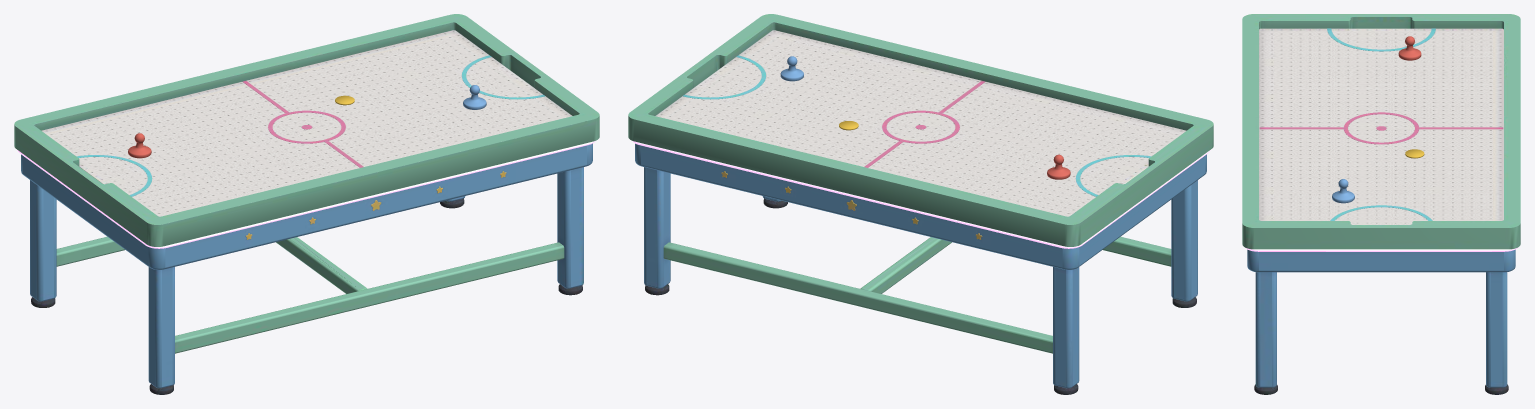
File: hockey_aire.glb
3 renders of one model, left to right at view 1: azimuth 30°, elevation 25°; view 2: azimuth 150°, elevation 25°; view 3: azimuth 270°, elevation 25°, orthographic. The views are drawn at different scales.
Parts seen in each view (by area): view 1: air-hockey-table_body; view 2: air-hockey-table_body; view 3: air-hockey-table_body.
Part boxes in pixels (x1,y1,x2,y2): air-hockey-table_body: (14, 14, 599, 394); air-hockey-table_body: (628, 14, 1213, 394); air-hockey-table_body: (1242, 14, 1520, 394).
Size of the model in its own units: 2.13 by 0.8555 by 1.17.
5 materials, 1 textured.
